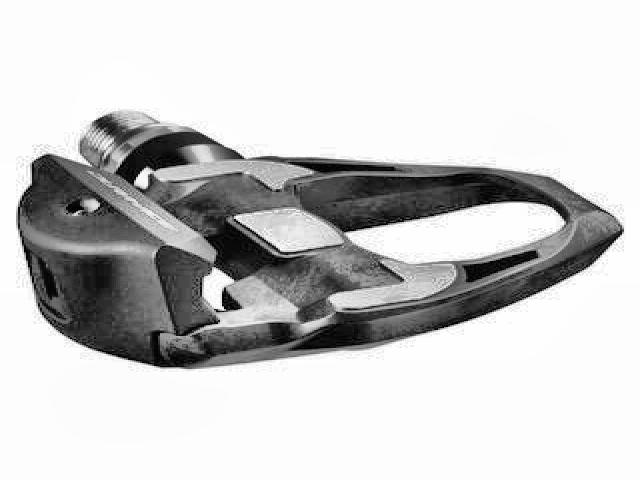pedal: (9, 106, 622, 372)
